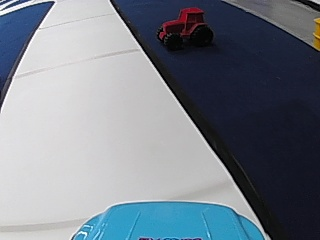tractor: (153, 5, 213, 51)
